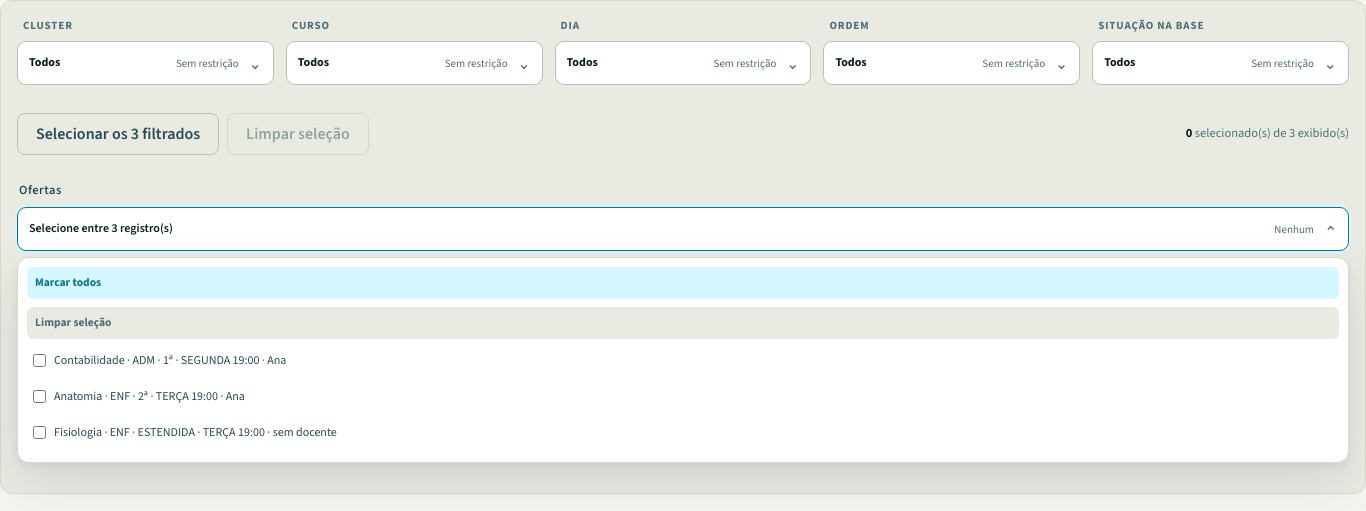
Test: ScenarioEntityPicker com ofertas › descreve a oferta com o docente da baseline na opcao
Click the checkbox labelled "Fisiologia · ENF · ESTENDIDA · TERÇA 19:00 · sem docente" at (40, 432), box [33,426,46,439]
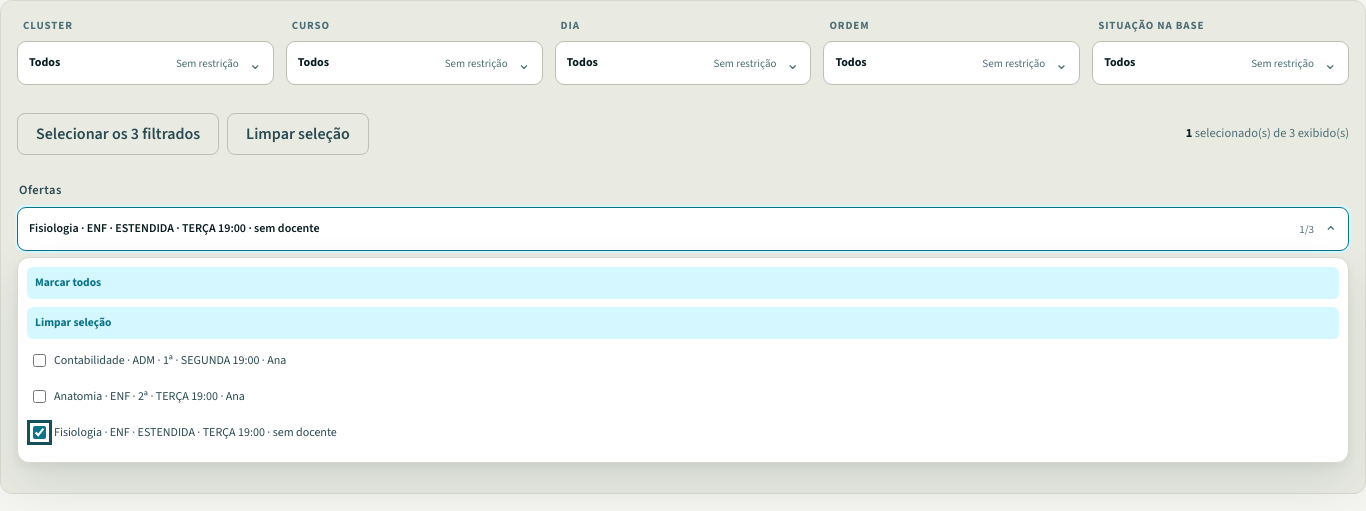
expect the text "1 selecionado(s) de 3 exibido(s)" is shown: met, box [1186,124,1349,144]
